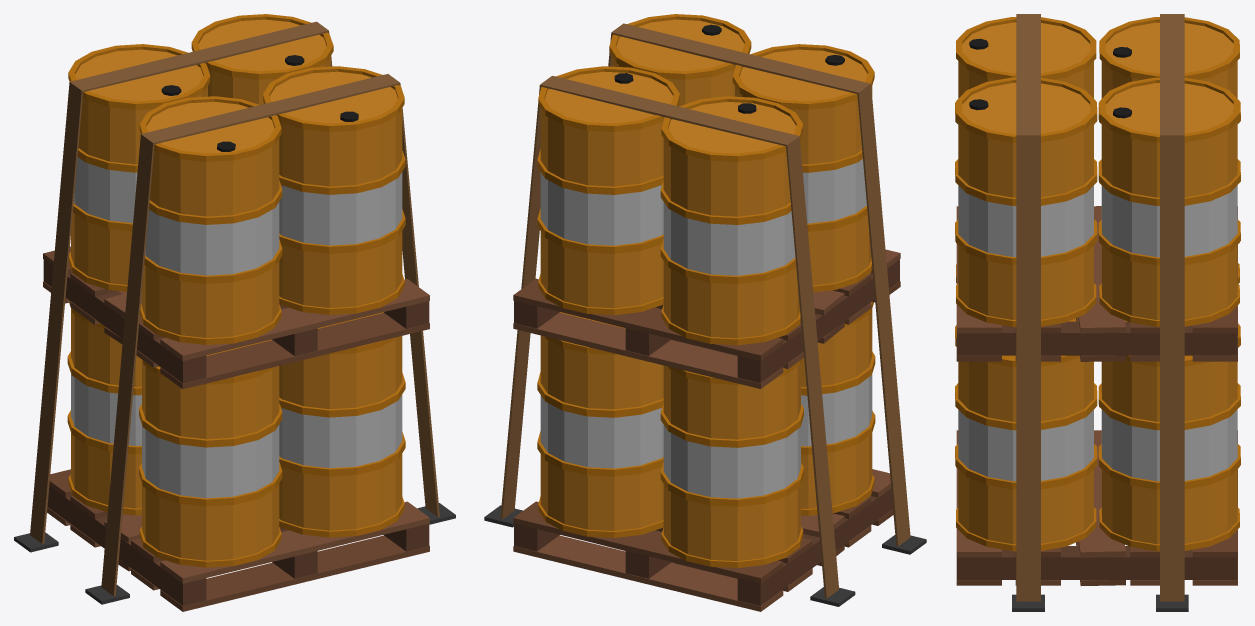
File: SM_Trains_TrainPart_01.glb
3 views of the same model, side by side, from view 1: azimuth 30°, elevation 25°; view 2: azimuth 150°, elevation 25°; view 3: azimuth 270°, elevation 25° (orthographic).
Visible parts, largest first — view 1: SM_Trains_TrainPart_01; view 2: SM_Trains_TrainPart_01; view 3: SM_Trains_TrainPart_01.
Boxes of the visible parts, left/top/right/bottom form: SM_Trains_TrainPart_01: left=14, top=14, right=455, bottom=611; SM_Trains_TrainPart_01: left=484, top=14, right=926, bottom=611; SM_Trains_TrainPart_01: left=955, top=14, right=1240, bottom=611.
Size of the model in its own units: 1.73 by 2.08 by 1.2.
Materials: 1 (1 with a texture image).
